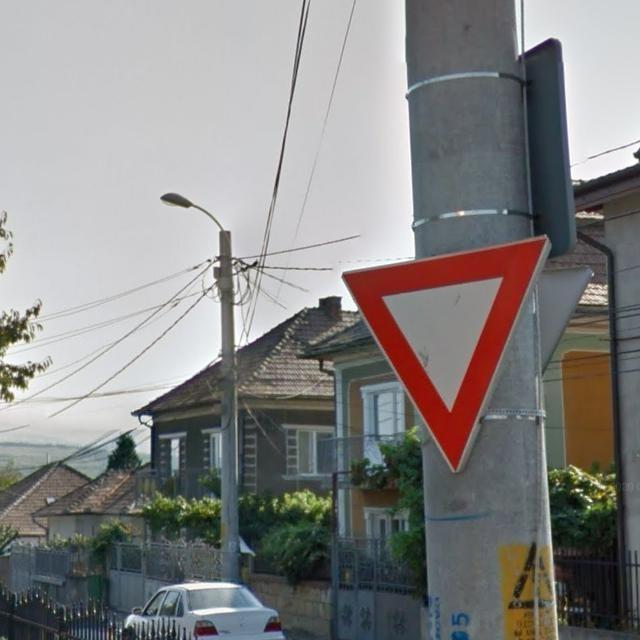prio_give_way: (335, 236, 552, 474)
